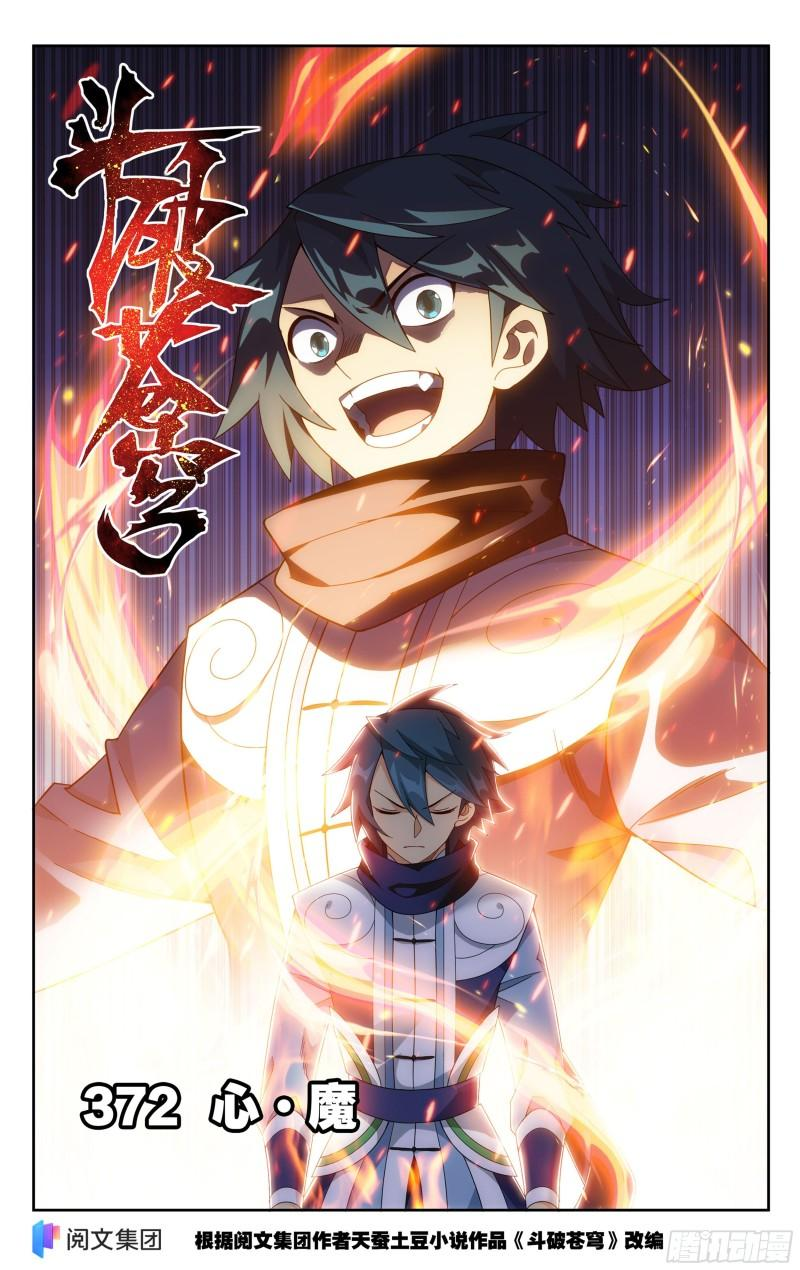minBox: (24, 38, 777, 1216)
